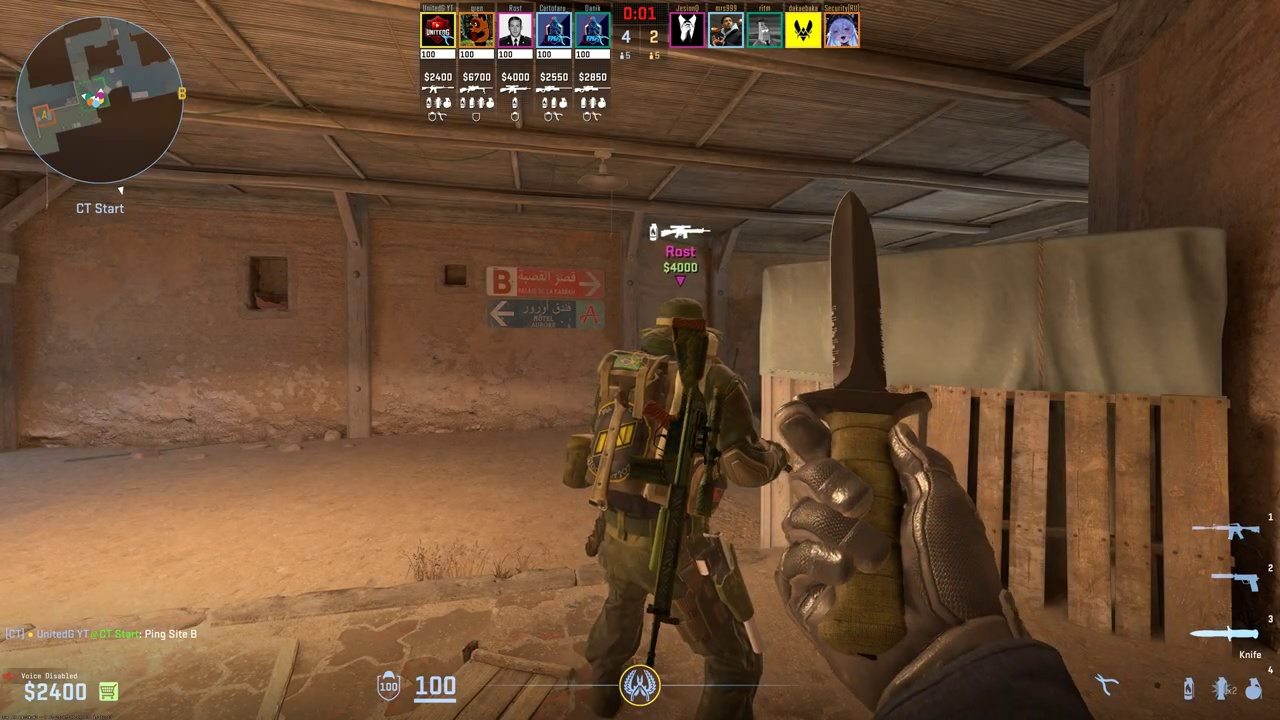CT: (582, 298, 763, 715)
